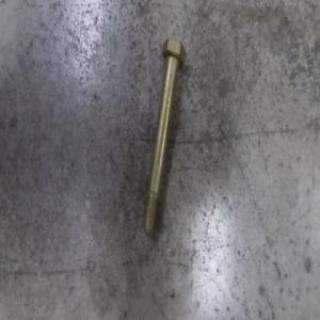Bolttrack_idkeyframe: (140, 37, 186, 236)
